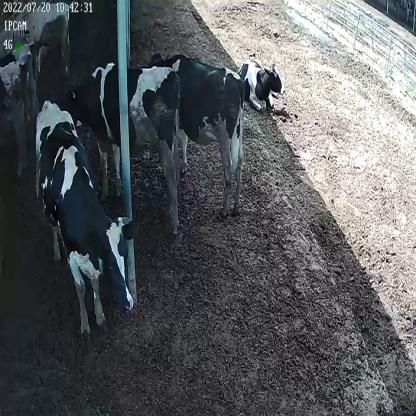cow: (34, 90, 138, 335), (70, 62, 186, 236), (150, 45, 248, 219), (240, 45, 286, 113)
